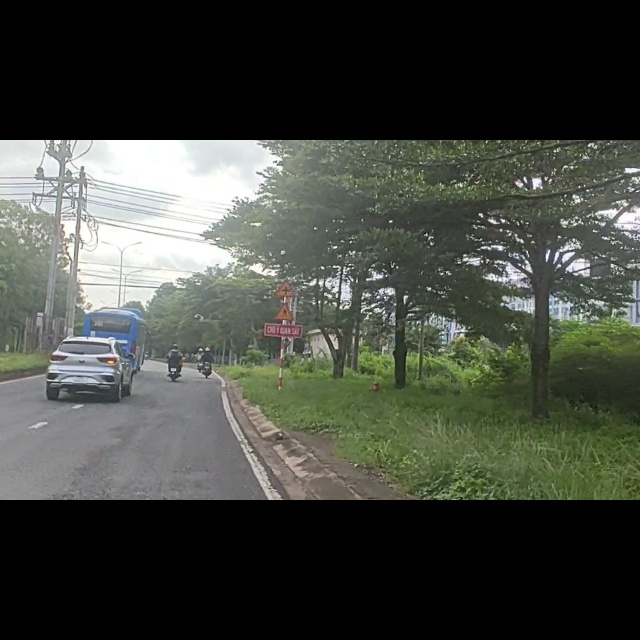bien_nguy_hiem: (273, 287, 298, 324), (273, 247, 297, 282)
